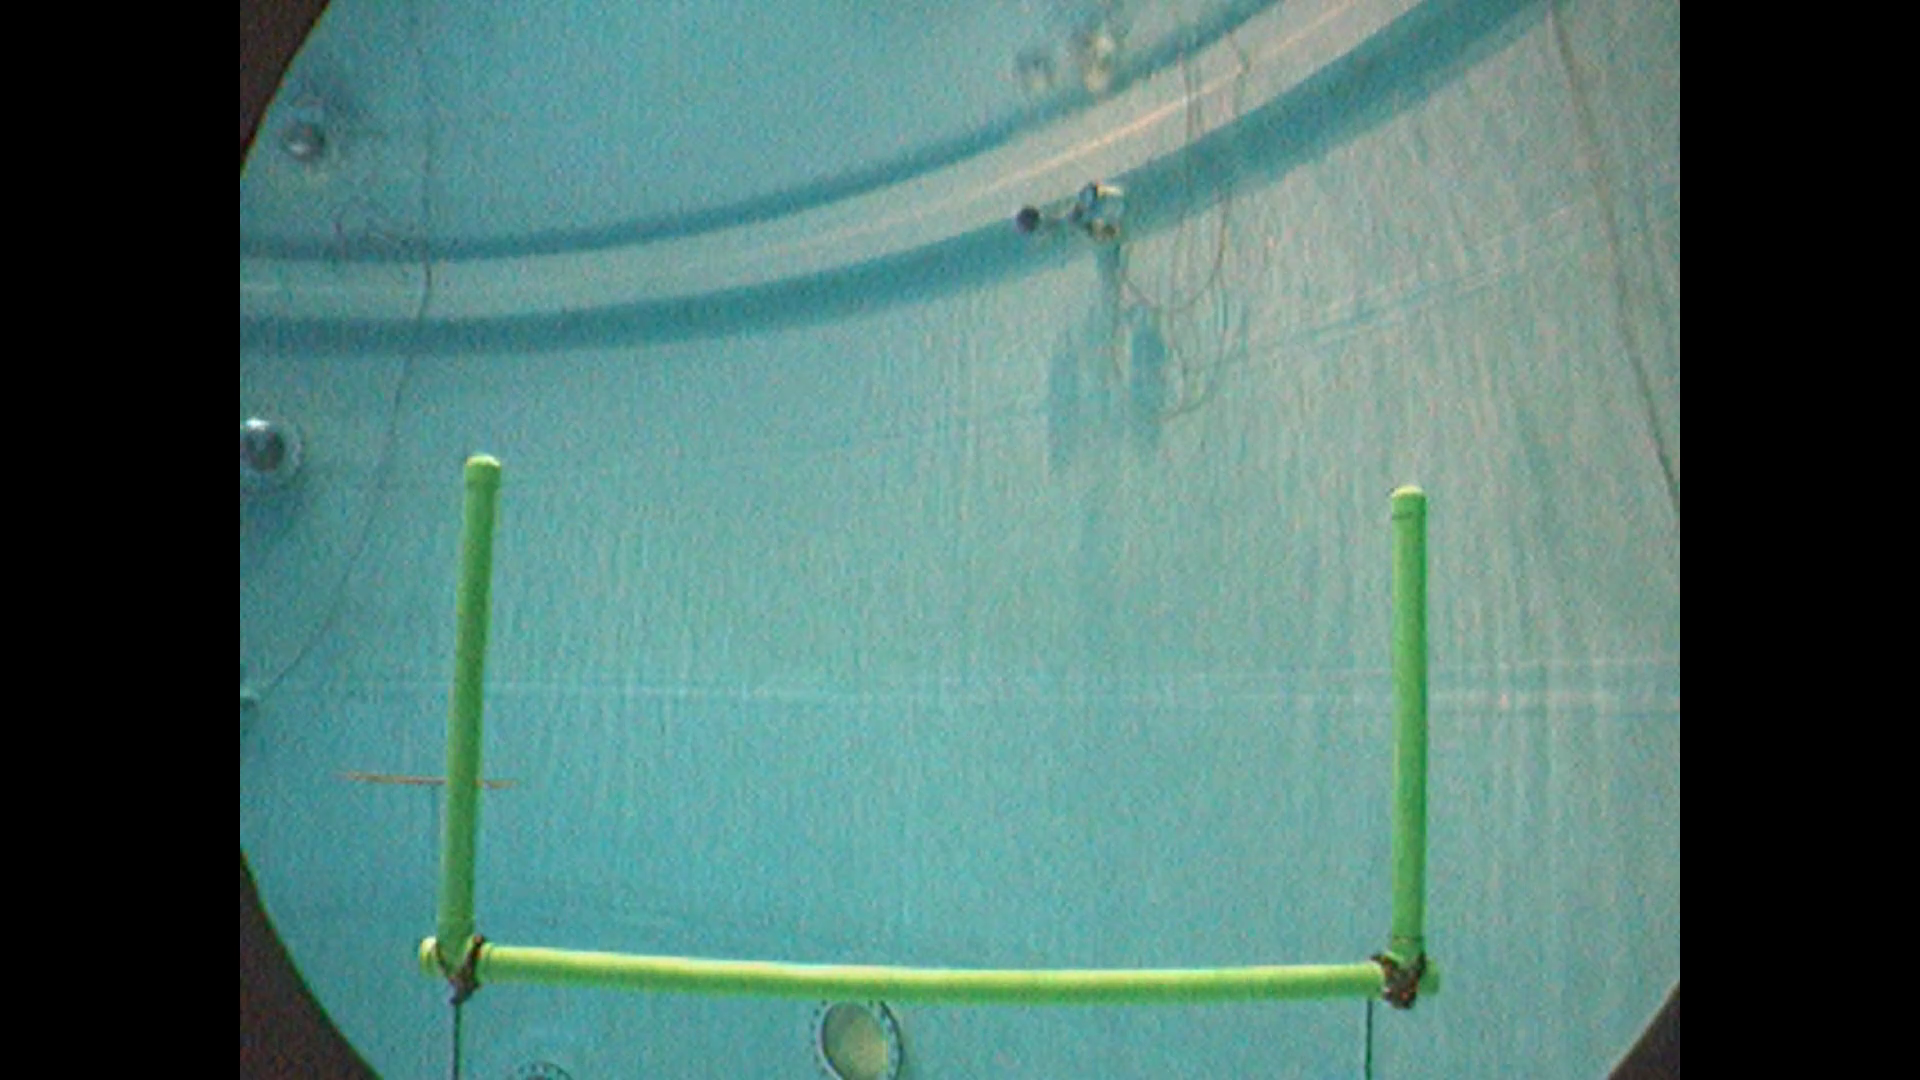gate: (421, 446, 1437, 1009)
